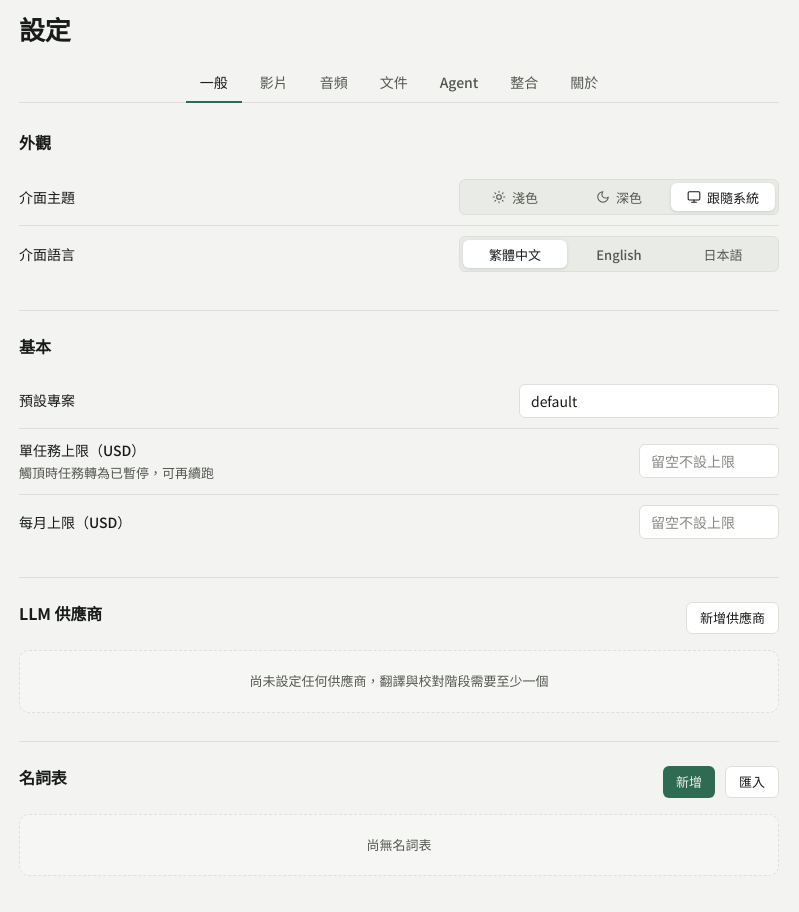
Test: empty default project blocks save
The width and height of the screenshot is (799, 912).
Clear the field labelled "預設專案" at (649, 401), box x1=519 y1=384 x2=779 y2=418
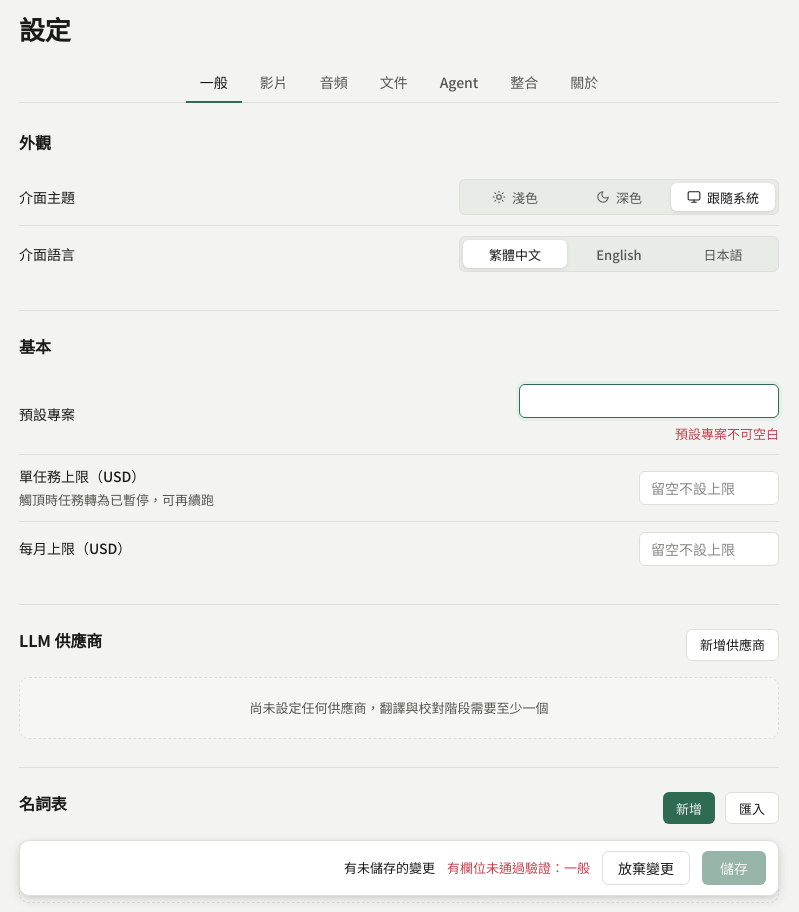
Expected: the text "預設專案不可空白" is shown, x1=675 y1=424 x2=779 y2=444
Expected: the button "儲存" is disabled, x1=702 y1=851 x2=766 y2=885
